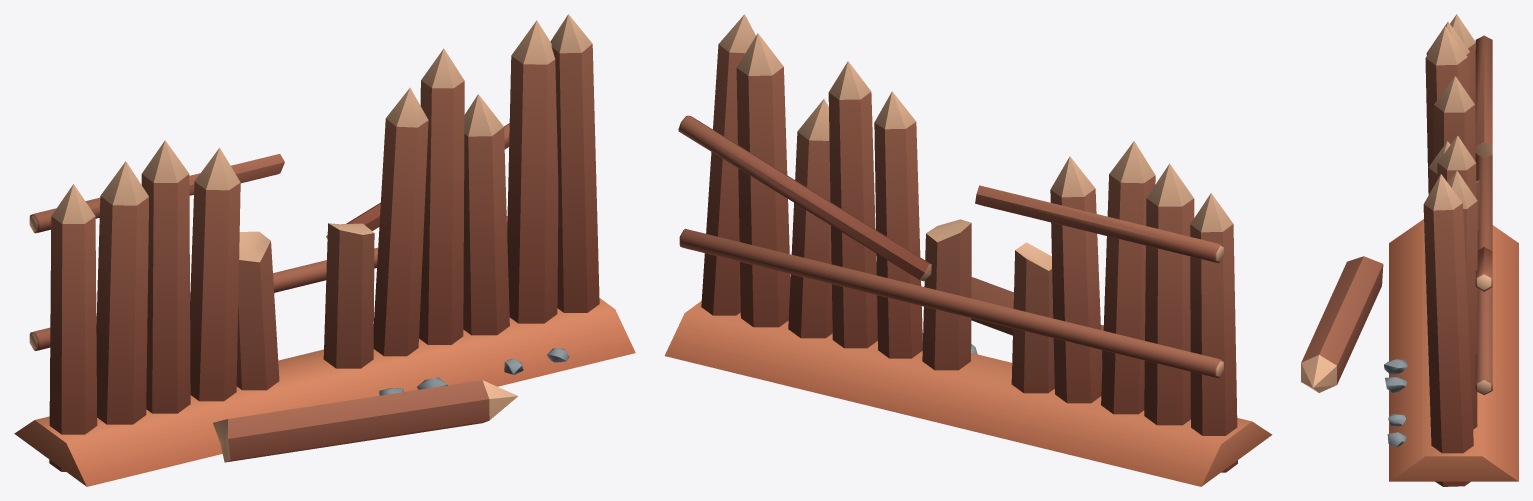
File: palisade_broken.fbx
3 views of the same model, side by side, from view 1: azimuth 30°, elevation 25°; view 2: azimuth 150°, elevation 25°; view 3: azimuth 270°, elevation 25° (orthographic). The views are drawn at different scales.
Visible parts, largest first — view 1: palisade_broken; view 2: palisade_broken; view 3: palisade_broken.
Boxes of the visible parts, <box> form: palisade_broken: <box>14,14,635,486</box>; palisade_broken: <box>664,14,1272,486</box>; palisade_broken: <box>1301,14,1518,486</box>.
Bounding box in the file's own units: 2.01 × 1.17 × 0.7715.
Materials: 1 (1 with a texture image).
